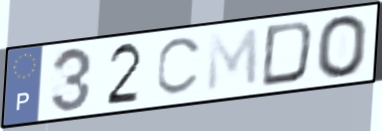2: (106, 41, 146, 108)
3: (49, 44, 94, 115)
C: (154, 34, 206, 99)
D: (258, 19, 317, 90)
M: (204, 25, 261, 95)
O: (315, 12, 370, 81)
